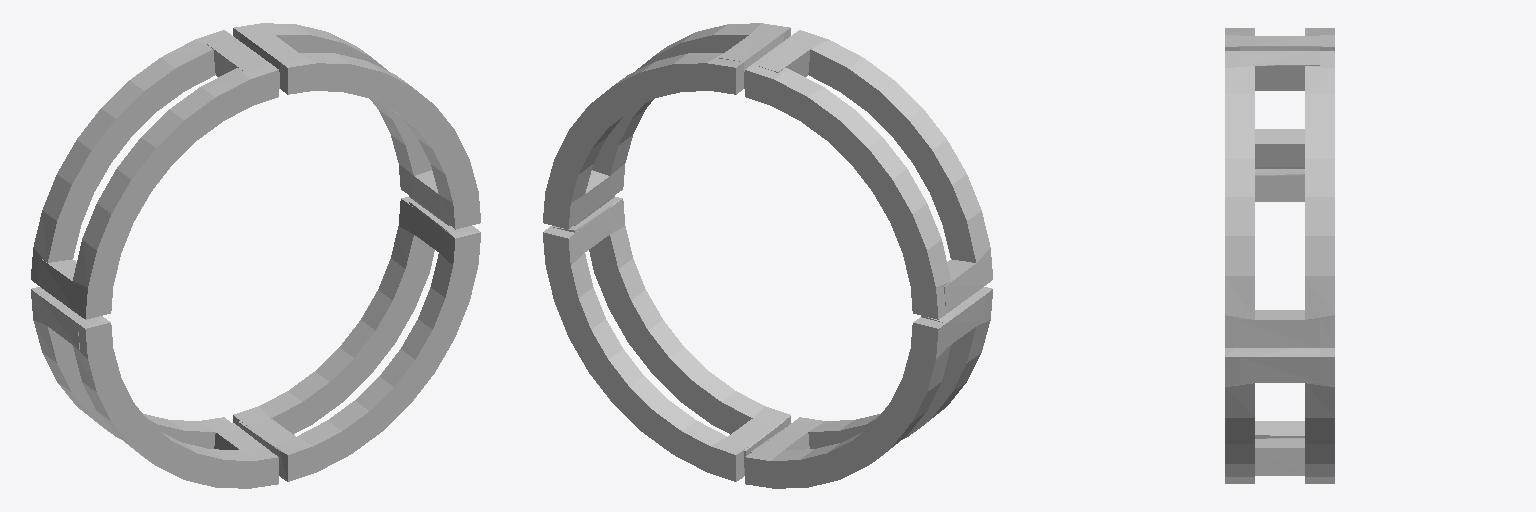
Rendered from circle_triggers.obj.
3 renders of one model, left to right at view 1: azimuth 30°, elevation 25°; view 2: azimuth 150°, elevation 25°; view 3: azimuth 270°, elevation 25°, orthographic.
Visible parts, largest first — view 1: circle_triggers; view 2: circle_triggers; view 3: circle_triggers.
Boxes of the visible parts, x1,y1,x2,y2 form: circle_triggers: [31, 23, 480, 488]; circle_triggers: [543, 23, 992, 488]; circle_triggers: [1225, 28, 1334, 483].
Bounding box in the file's own units: 0.4596 × 0.4596 × 0.11.